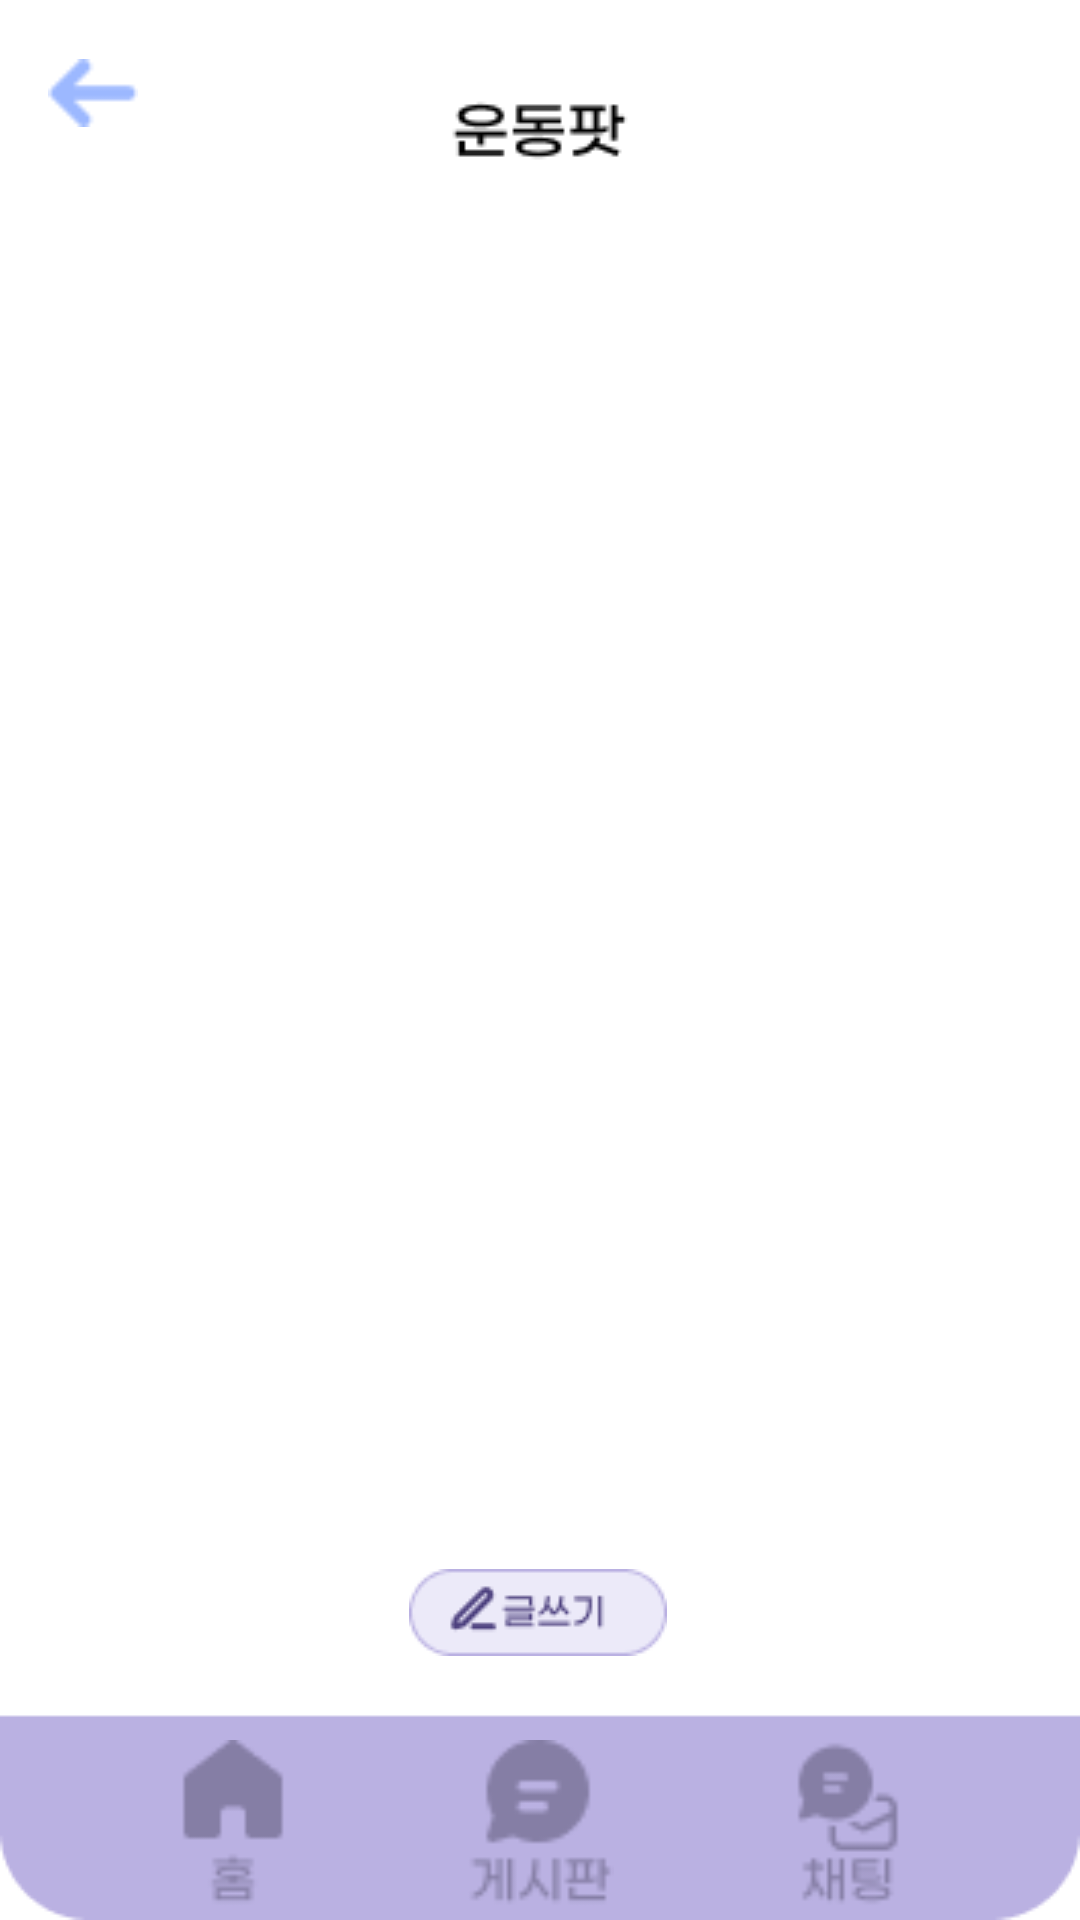

Locate icon controls on the screen. Image size 1080*1920, boxes as (x1, y1, x2, y2).
Back Icon: (48, 59, 136, 127)
